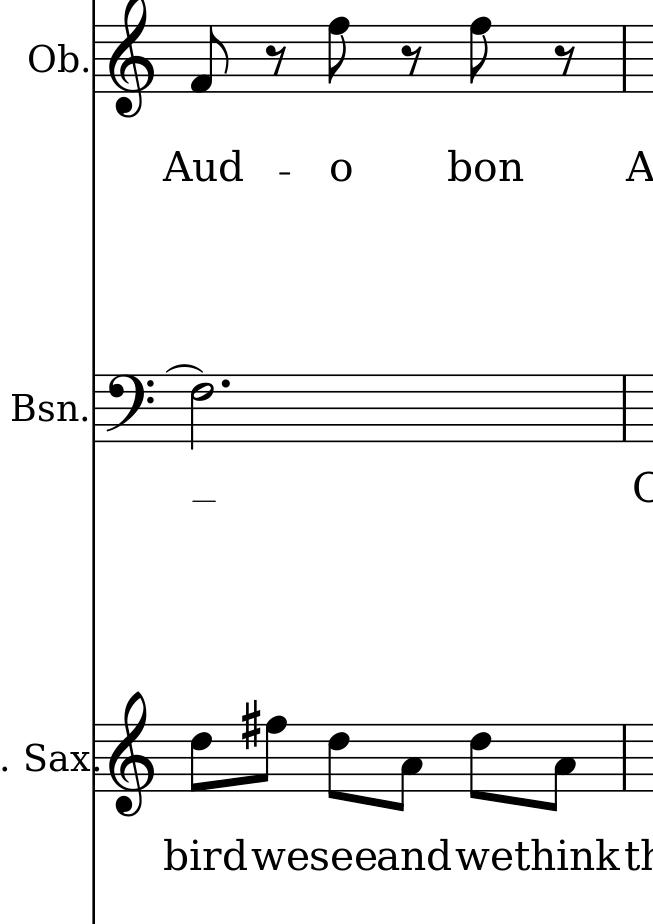2_6: (189, 371, 215, 448)
8_1: (193, 24, 230, 93)
8_3: (387, 722, 423, 812), (543, 721, 578, 813)
8_6: (467, 722, 493, 803), (189, 723, 217, 794), (326, 721, 350, 802)
8_8: (256, 713, 287, 792), (468, 17, 495, 94), (327, 17, 351, 96)
Bsn: (8, 388, 77, 429)
Fclef: (104, 374, 157, 444)
Gclef: (108, 689, 159, 818)
Ob: (26, 38, 83, 79)
Rests8: (400, 42, 424, 77), (555, 42, 578, 78), (266, 43, 289, 75)
Sax: (24, 737, 90, 775)
Sharp: (239, 698, 262, 750)
Single_barline: (611, 723, 637, 792), (86, 25, 107, 91), (615, 374, 635, 442), (85, 724, 105, 792), (615, 25, 632, 92), (88, 375, 105, 442)
dot: (216, 374, 235, 393), (218, 377, 233, 390)
